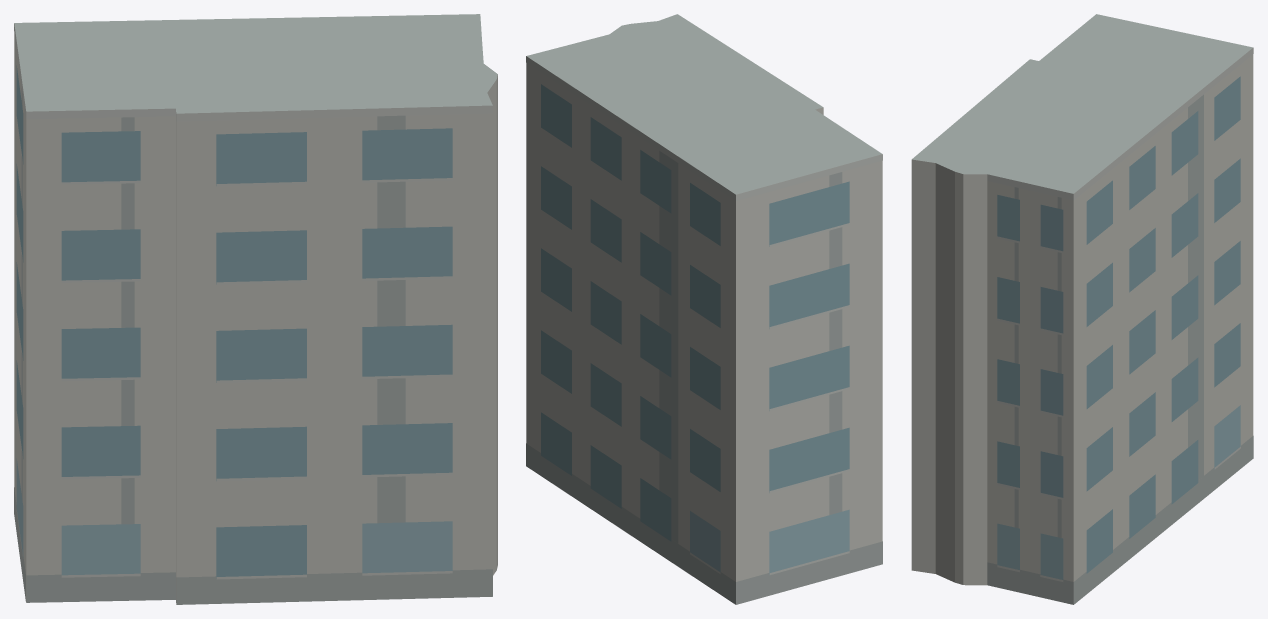
The model's file is survey-upis-32726262.glb.
The picture shows the model from 3 angles, left to right: view 1: azimuth 30°, elevation 25°; view 2: azimuth 150°, elevation 25°; view 3: azimuth 270°, elevation 25°; orthographic projection. The views are drawn at different scales.
Visible parts, largest first — view 1: survey-upis-32726262.tmp; view 2: survey-upis-32726262.tmp; view 3: survey-upis-32726262.tmp.
Part boxes in pixels (left/top/right/bottom): survey-upis-32726262.tmp: left=14, top=14, right=497, bottom=604; survey-upis-32726262.tmp: left=526, top=14, right=882, bottom=604; survey-upis-32726262.tmp: left=911, top=14, right=1253, bottom=604.
Bounding box in the file's own units: 14.32 × 15.25 × 11.5.
